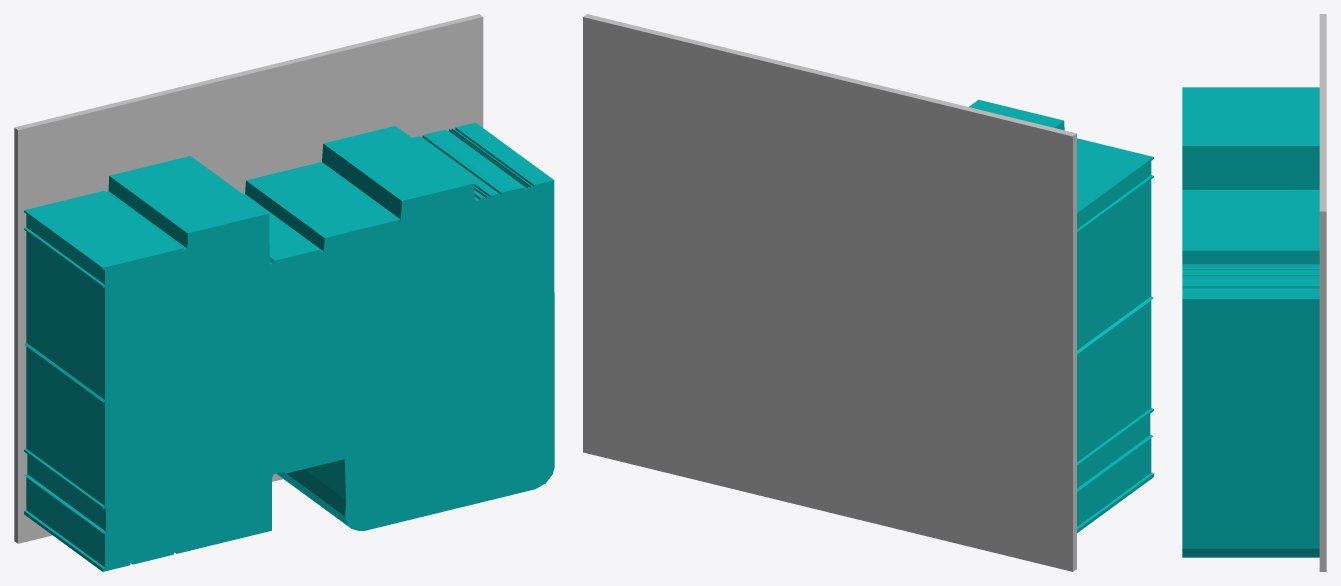
The picture shows the model from 3 angles, left to right: view 1: azimuth 30°, elevation 25°; view 2: azimuth 150°, elevation 25°; view 3: azimuth 270°, elevation 25°; orthographic projection. The views are drawn at different scales.
Visible parts, largest first — view 1: world; view 2: world; view 3: world.
Boxes of the visible parts, x1,y1,x2,y2 form: world: (14,14,554,571); world: (583,14,1153,571); world: (1182,14,1326,571).
Bounding box in the file's own units: 10.23 × 8.69 × 3.15.
